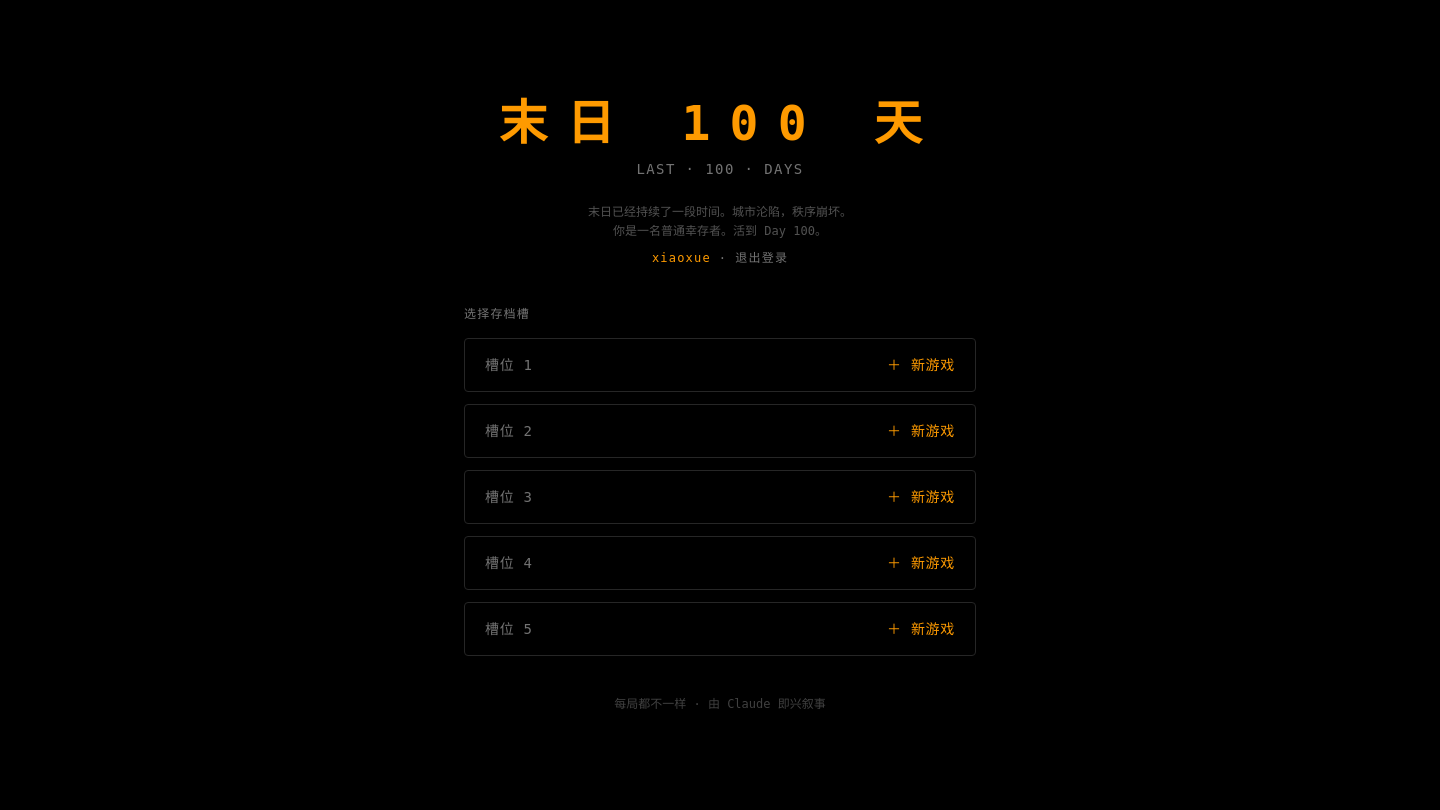
App — gameplay (after login) › exit-to-menu returns to slot screen without wiping save
Click the button with test id "slot-1" at (504, 364), box left=464, top=338, right=976, bottom=392
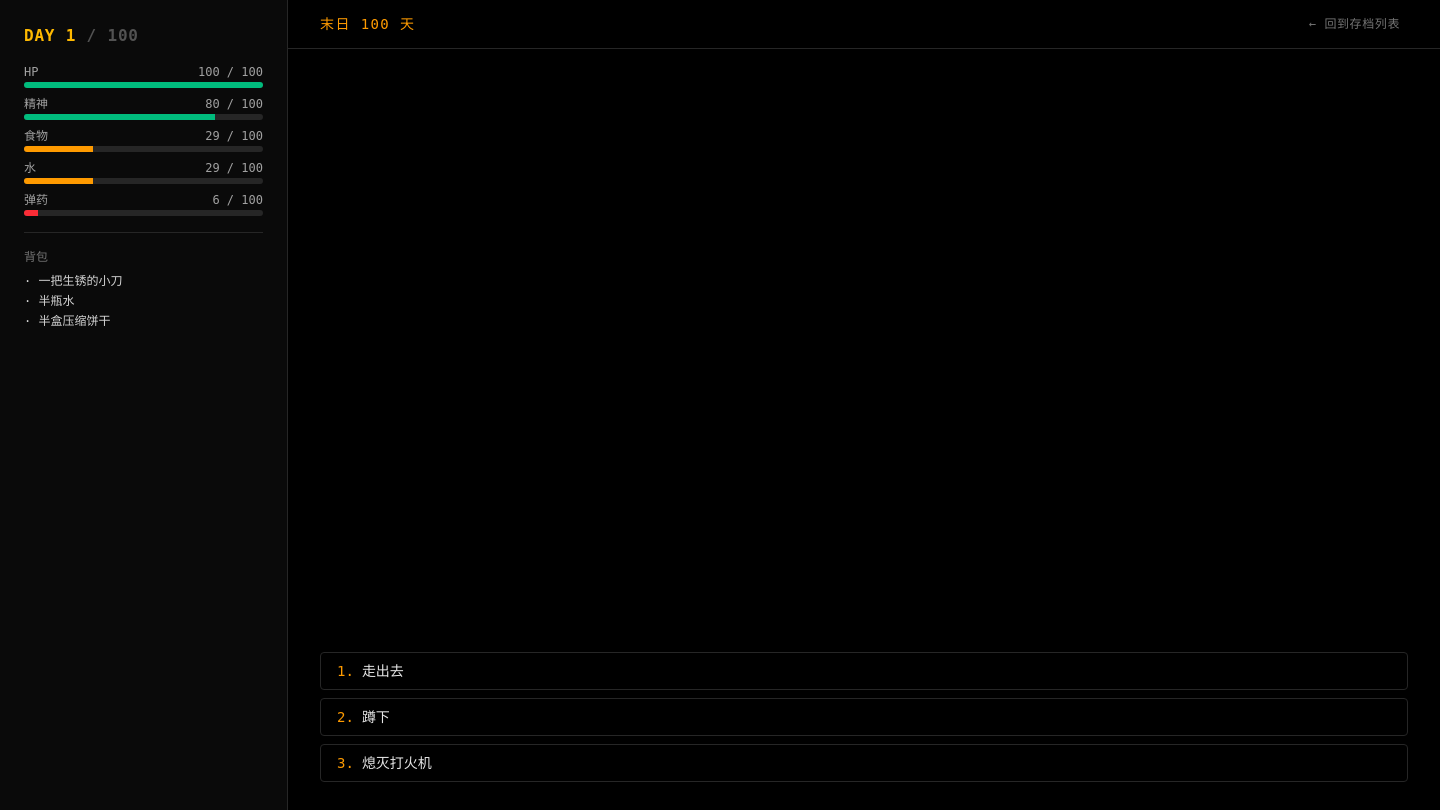
Expected: the button with test id "choice-0" is shown, left=320, top=652, right=1408, bottom=690
Click the button with test id "exit-to-menu" at (1354, 24), box left=1301, top=12, right=1408, bottom=36
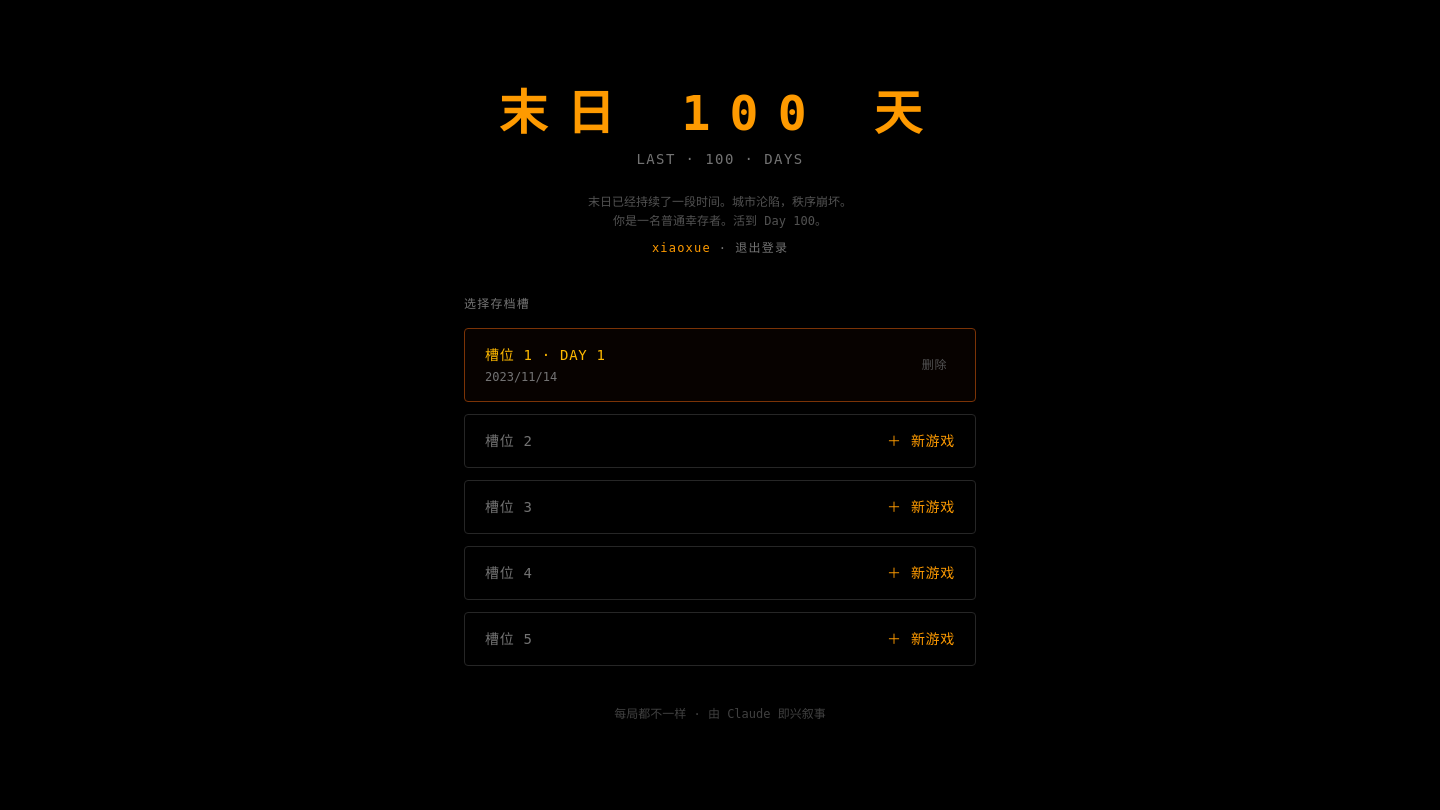
Expected: the element with test id "slot-select-screen" is shown
